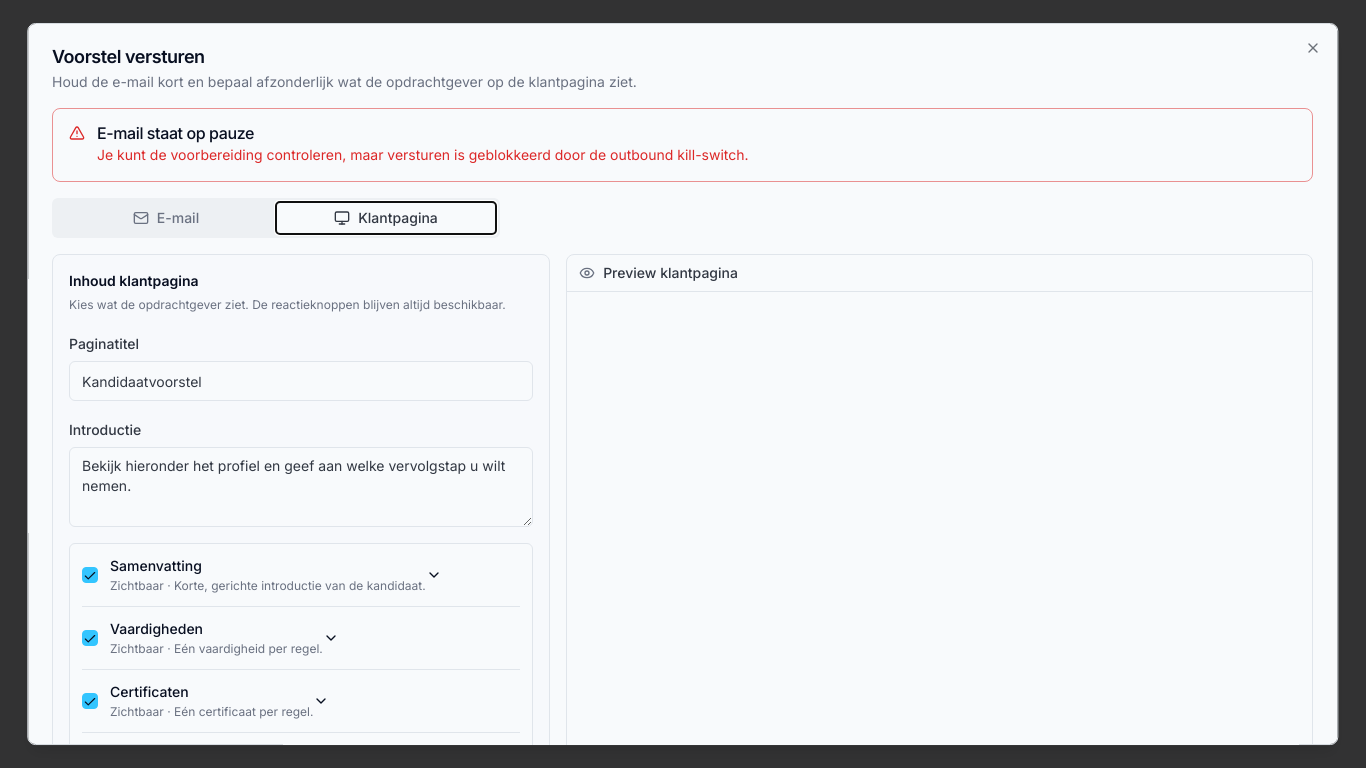
Test: MatchProposalEmailDialog › laat een late initiële preview-response geen reeds getypte editorinhoud overschrijven
This screenshot has width=1366, height=768.
Replace the text in the field labelled "Paginatitel" with "Getypte QA inhoud" at point(301, 381), box [69,361,533,401]
(page scrolled)
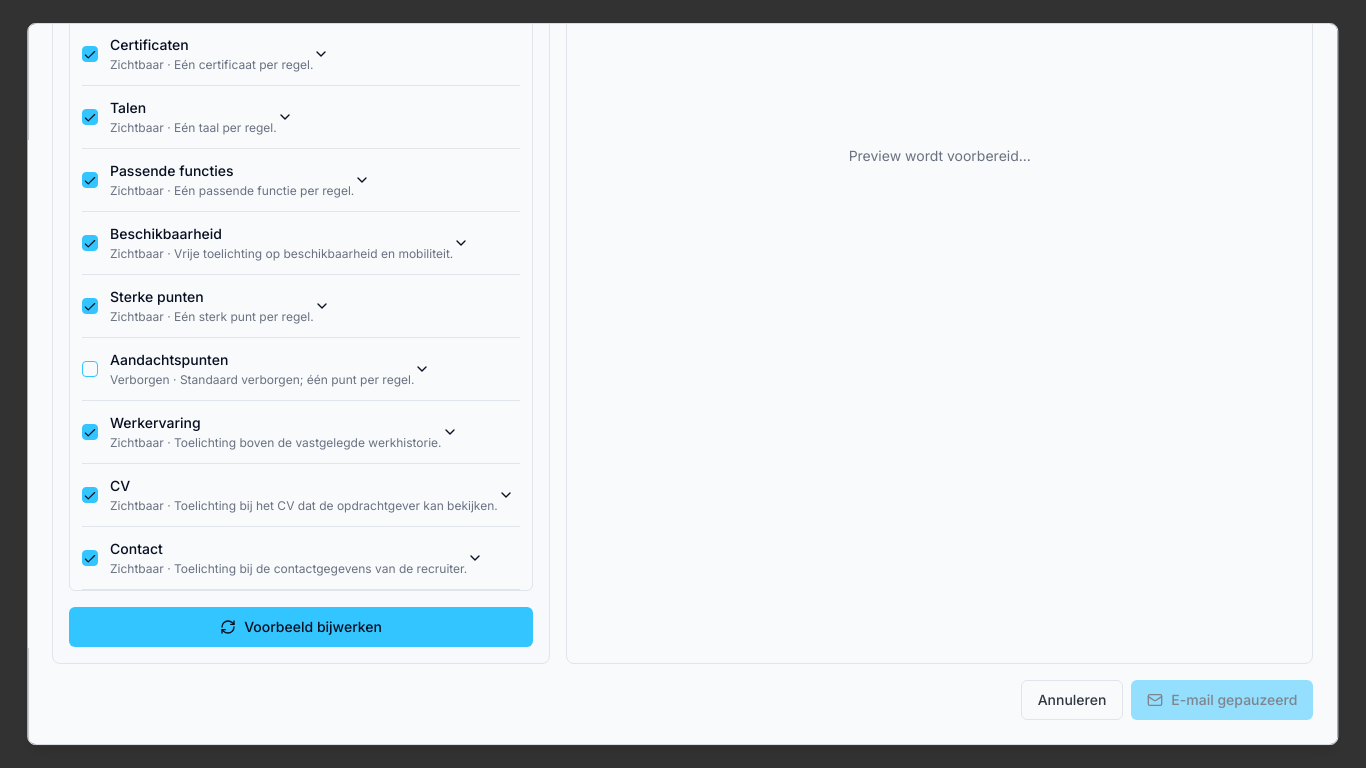
Now the button "Voorbeeld bijwerken" is shown, box [69,607,533,647]
